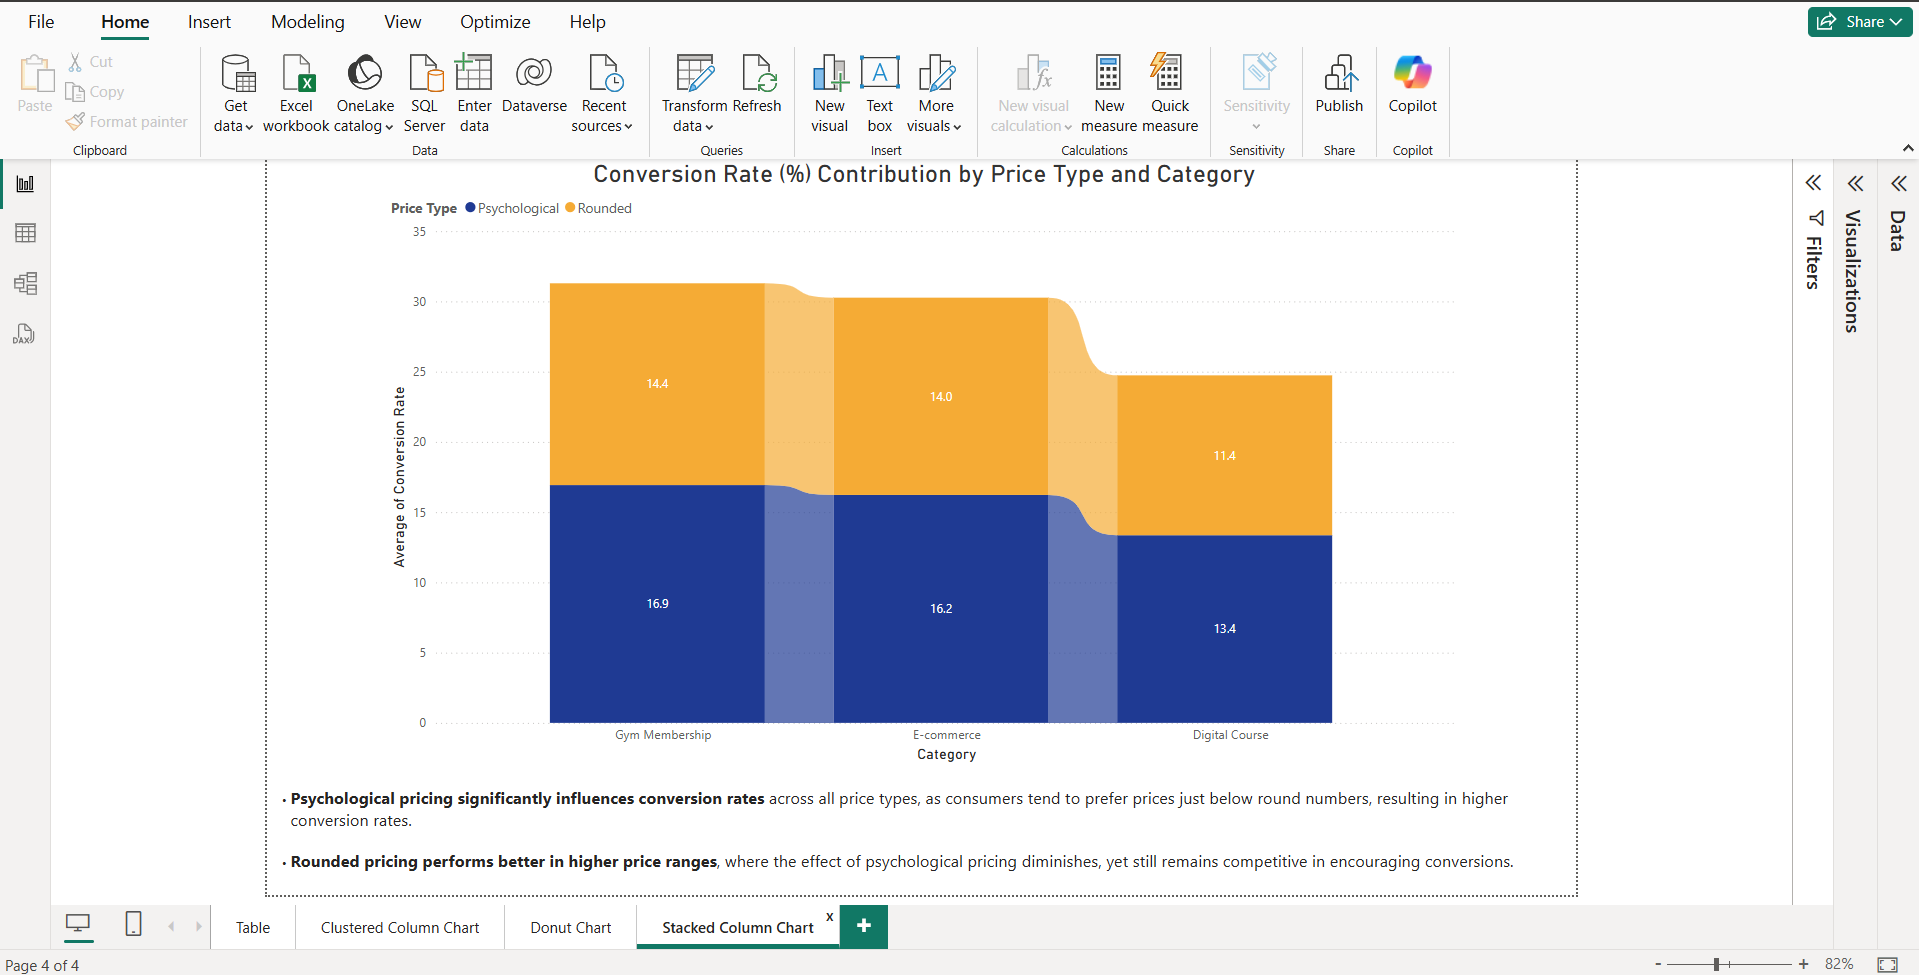

This screenshot's page, from the dashboard's own definition file:
{"tool":"powerbi","page":{"name":"Stacked Column Chart","canvas":[1280,720],"ordinal":3},"visuals":[{"type":"columnChart","title":"Conversion Rate (%) Contribution by Price Type and Category","fields":{"Category":["Sheet1.Category"],"Series":["Sheet1.Price Type"],"Y":["Avg(Sheet1.Conversion Rate)"]},"box":[116.2,0,1054.1,595.5],"z":0},{"type":"textbox","box":[0,609.3,1280.3,111.1],"z":1000}]}

Visuals, with their boxes on the page's 1280x720 design canvas (x1, y1, x2, y2). These are canvas units, not pixel positions in the 1919x975 screenshot, which may show the page scaled, cropped or inside an application window:
"Conversion Rate (%) Contribution by Price Type and Category" columnChart: left=116, top=0, right=1170, bottom=596
textbox: left=0, top=609, right=1280, bottom=720
